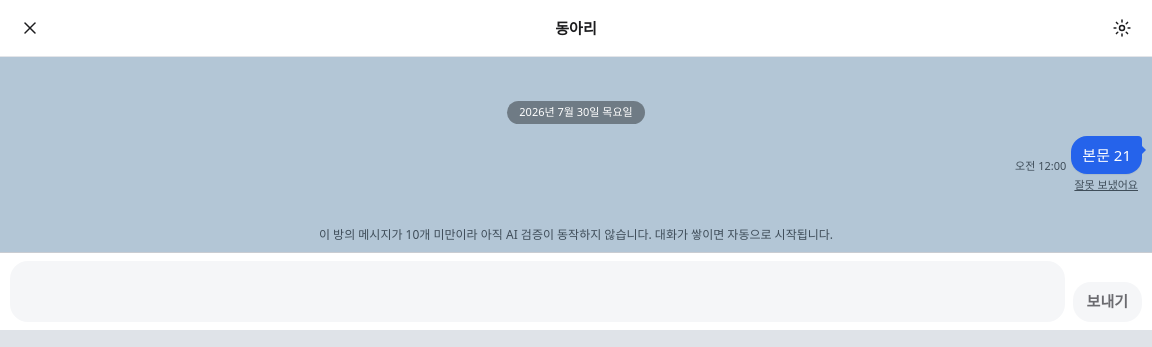
it: 오발송 신고 › 누르면 신고되고 다시 누르면 취소된다
This screenshot has width=1152, height=347.
Click the button with test id "chat-report-21": (1106, 185) [1074,177,1138,194]
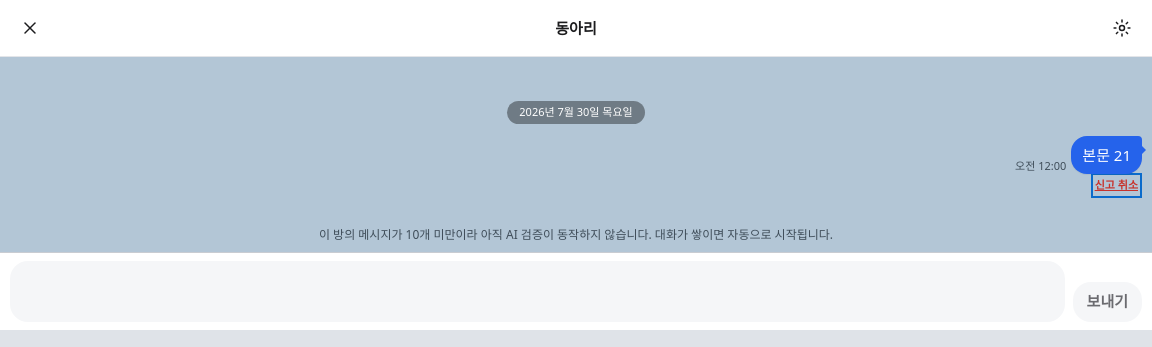
Result: the button with test id "chat-report-21" reads "신고 취소"
Click the button with test id "chat-report-21": (1116, 185) [1095,177,1138,194]
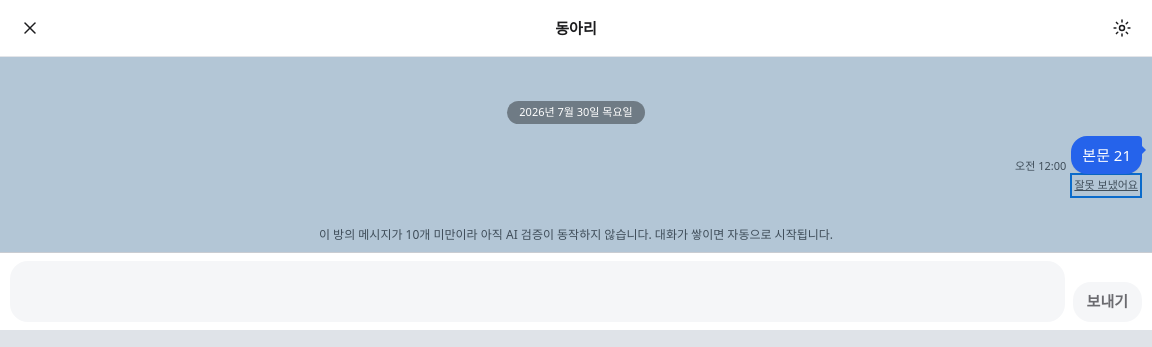
Result: the button with test id "chat-report-21" reads "잘못 보냈어요" at [1074,177,1138,194]
